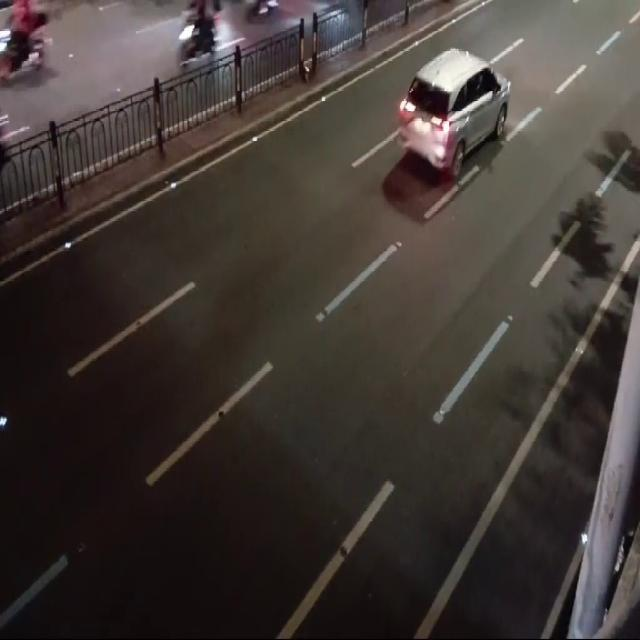car: (400, 57, 504, 176)
motorcycle: (0, 6, 48, 79)
